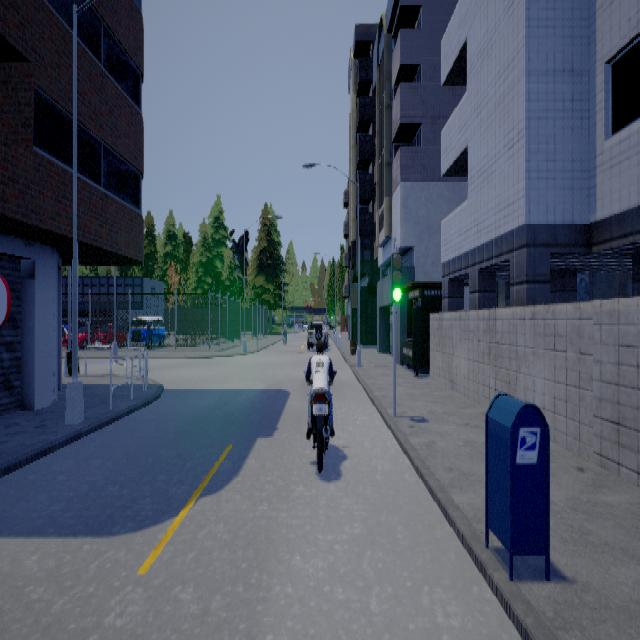green_light: (390, 241, 401, 311)
motobike: (302, 344, 336, 472)
traffic_sign: (0, 273, 10, 327)
vehicle: (130, 315, 165, 344), (301, 318, 328, 349)
